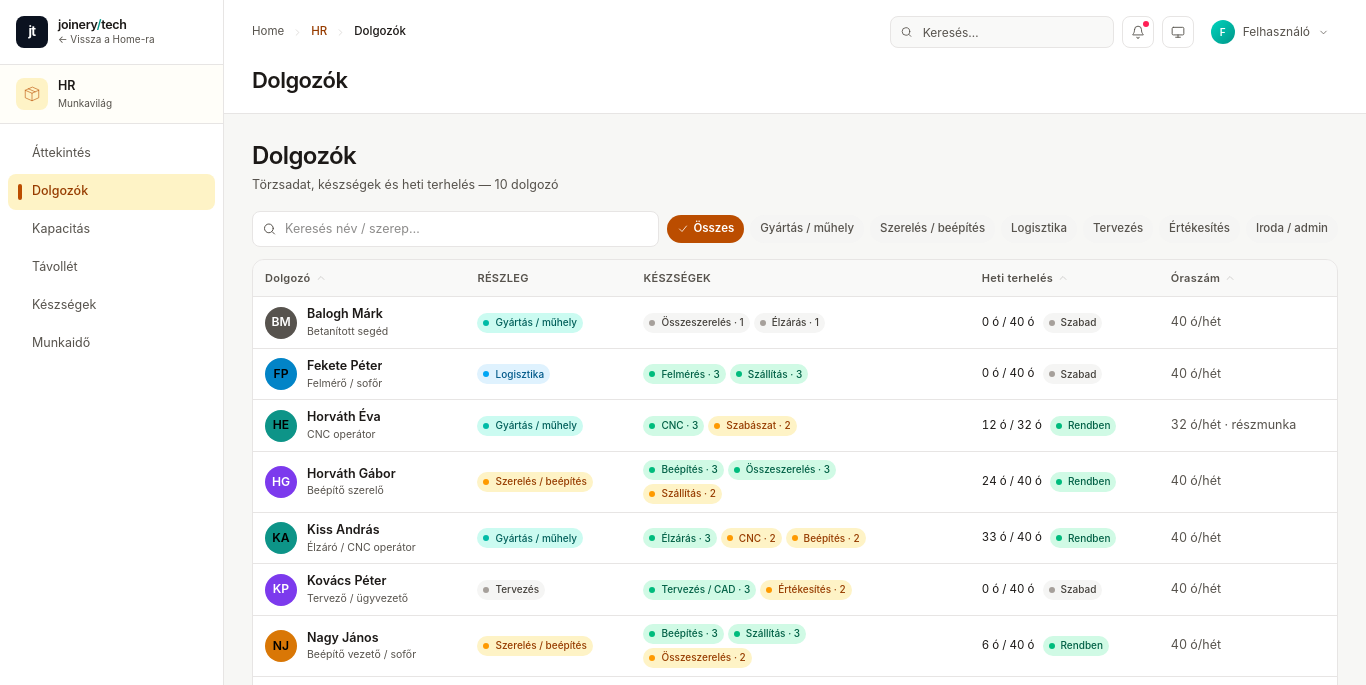
Test: HrPage (route-diszpécser, API-vezérelt képernyők) › clicking an employee opens the profile SlideOver with skills
This screenshot has width=1366, height=685.
Click the text "Nagy János": [343, 637] box [307, 630, 378, 644]
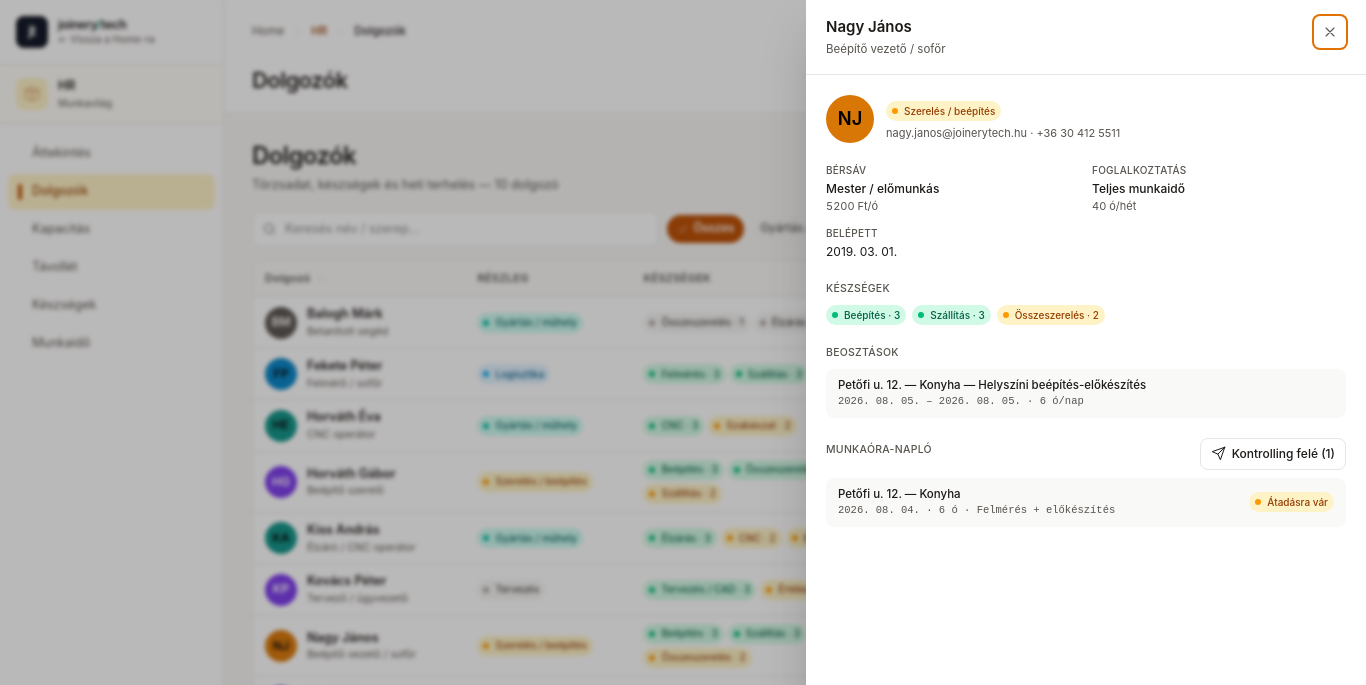
Expected: the heading "Készségek" is shown, [826, 282, 890, 295]
Expected: the heading "Munkaóra-napló" is shown, [826, 442, 932, 458]
